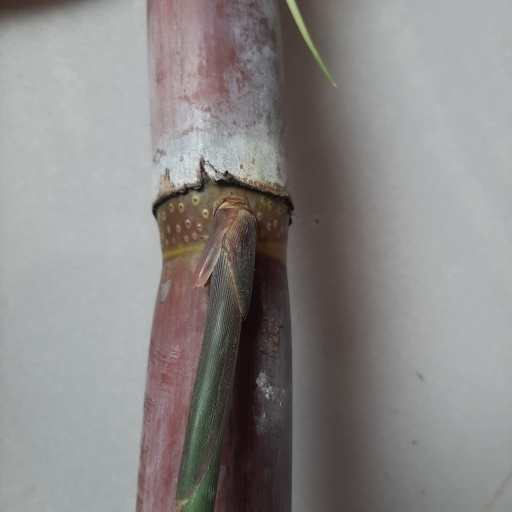Sprouted_Bud: (209, 197, 255, 308)
